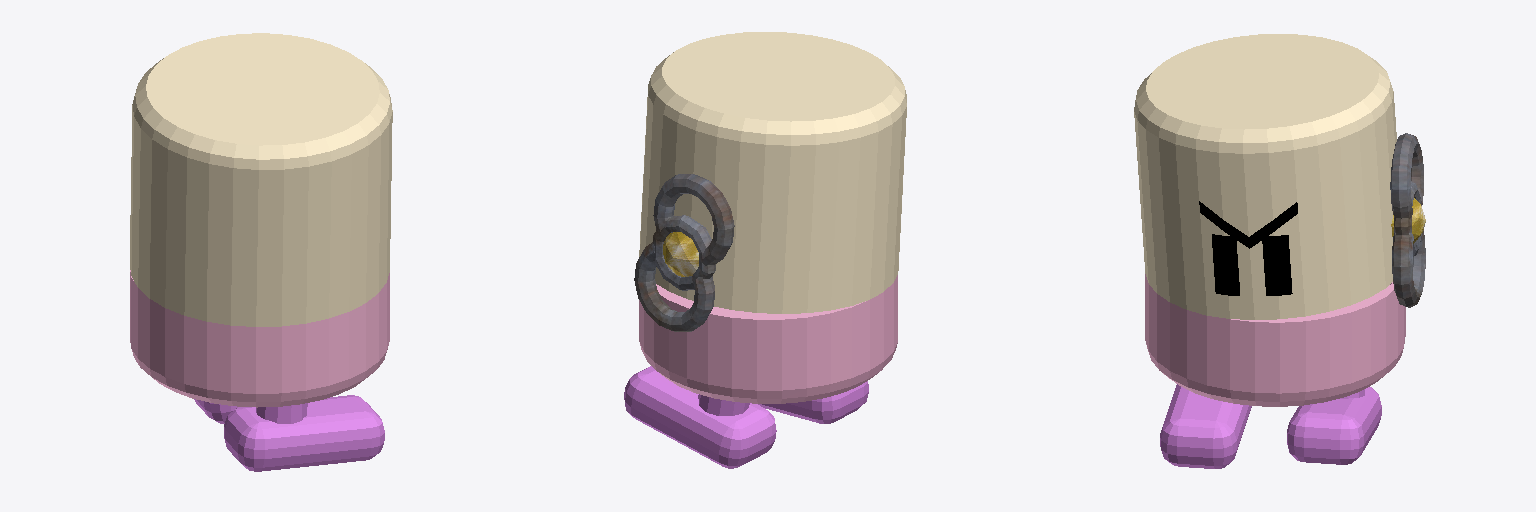
3 renders of one model, left to right at view 1: azimuth 30°, elevation 25°; view 2: azimuth 150°, elevation 25°; view 3: azimuth 270°, elevation 25°, orthographic.
Parts seen in each view (by area): view 1: Head, Jaw, RightLeg; view 2: Head, Jaw, WindupKey, LeftLeg, RightLeg; view 3: Head, Jaw, RightLeg, LeftLeg, WindupKey.
Boxes of the visible parts, <box> form: Head: <box>130,33,392,326</box>; Jaw: <box>130,270,389,407</box>; RightLeg: <box>224,395,384,471</box>; Head: <box>639,32,906,313</box>; Jaw: <box>639,275,897,403</box>; WindupKey: <box>634,174,734,331</box>; LeftLeg: <box>624,366,776,468</box>; RightLeg: <box>758,381,868,423</box>; Head: <box>1134,34,1396,319</box>; Jaw: <box>1145,274,1405,406</box>; RightLeg: <box>1160,384,1251,468</box>; LeftLeg: <box>1287,387,1381,464</box>; WindupKey: <box>1390,133,1425,307</box>.
Bounding box in the file's own units: 101 × 153 × 112.
Materials: 6 (2 with a texture image).